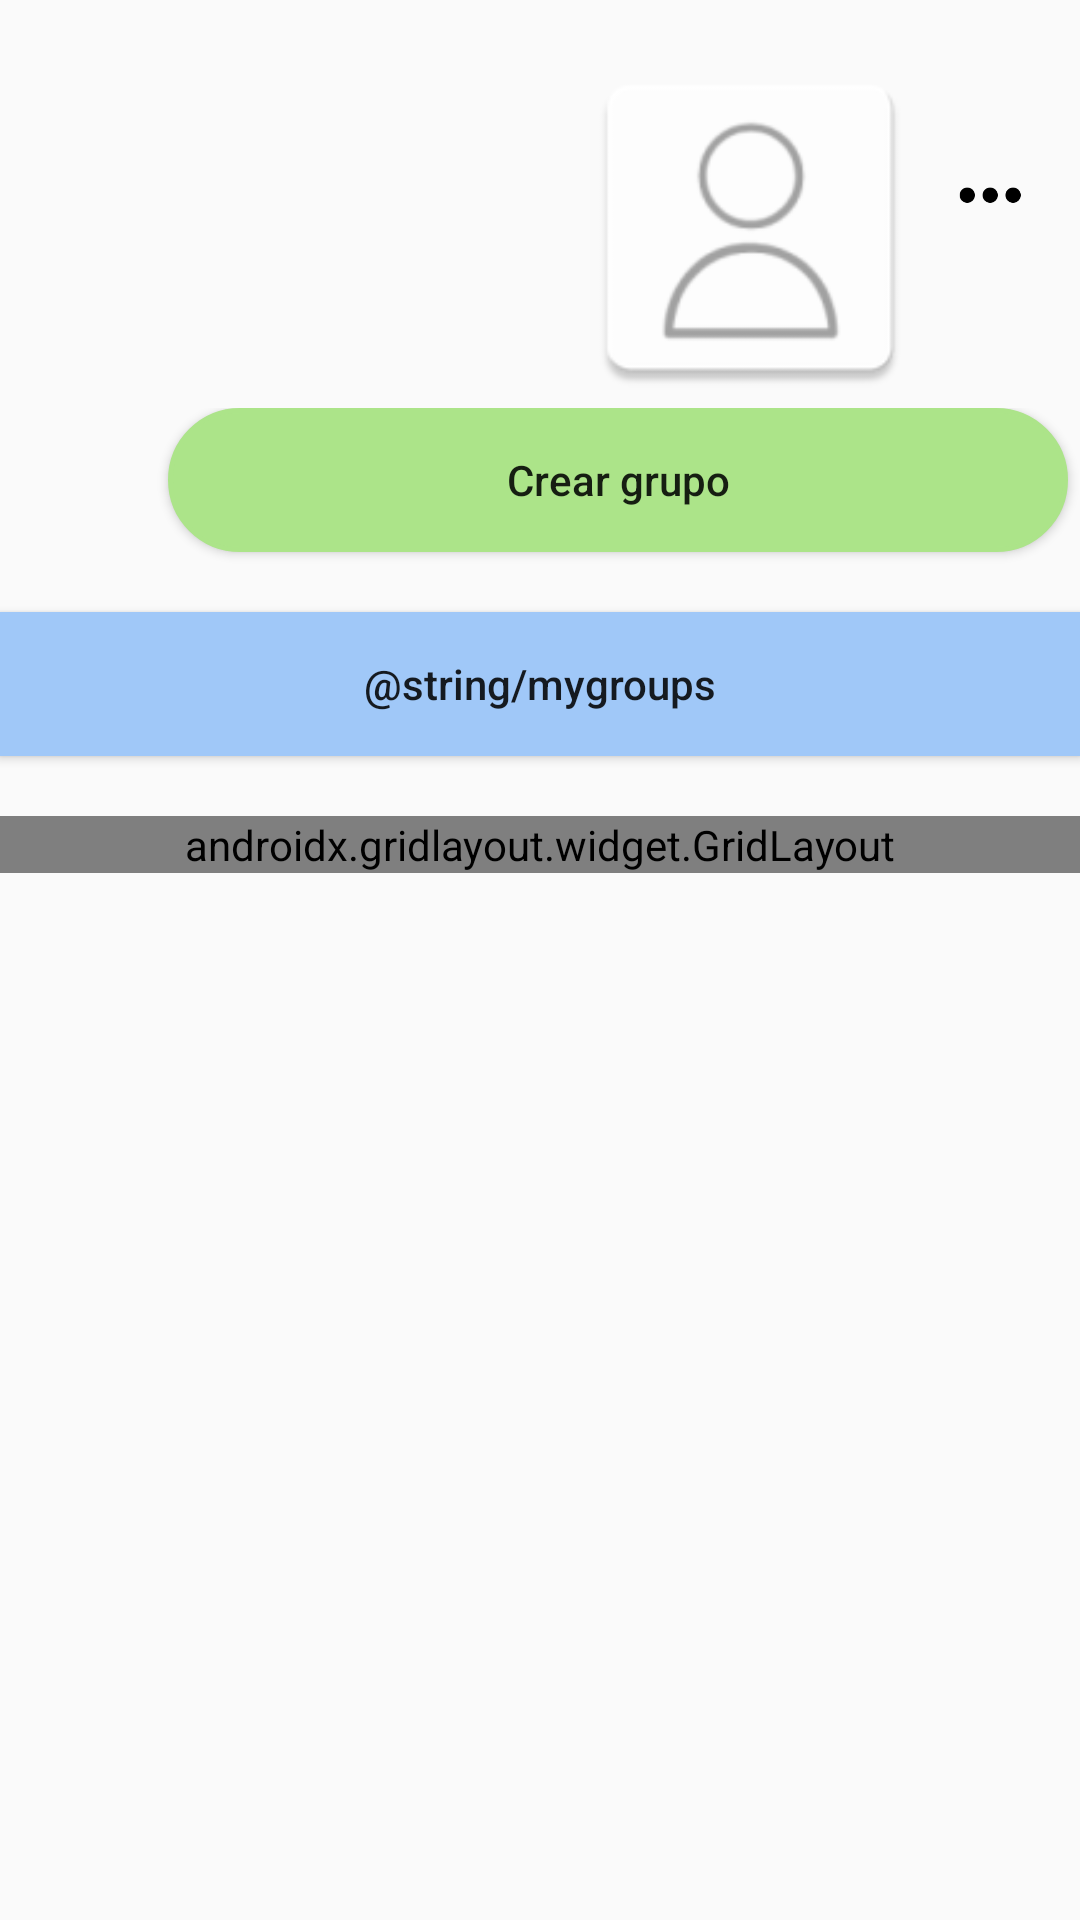

Locate icon controls on the screen. Image size 1080px×1920px, boxes as (x1, y1, x2, y2).
ellipsis: (959, 187, 1021, 203)
imageuser: (608, 102, 894, 379)
